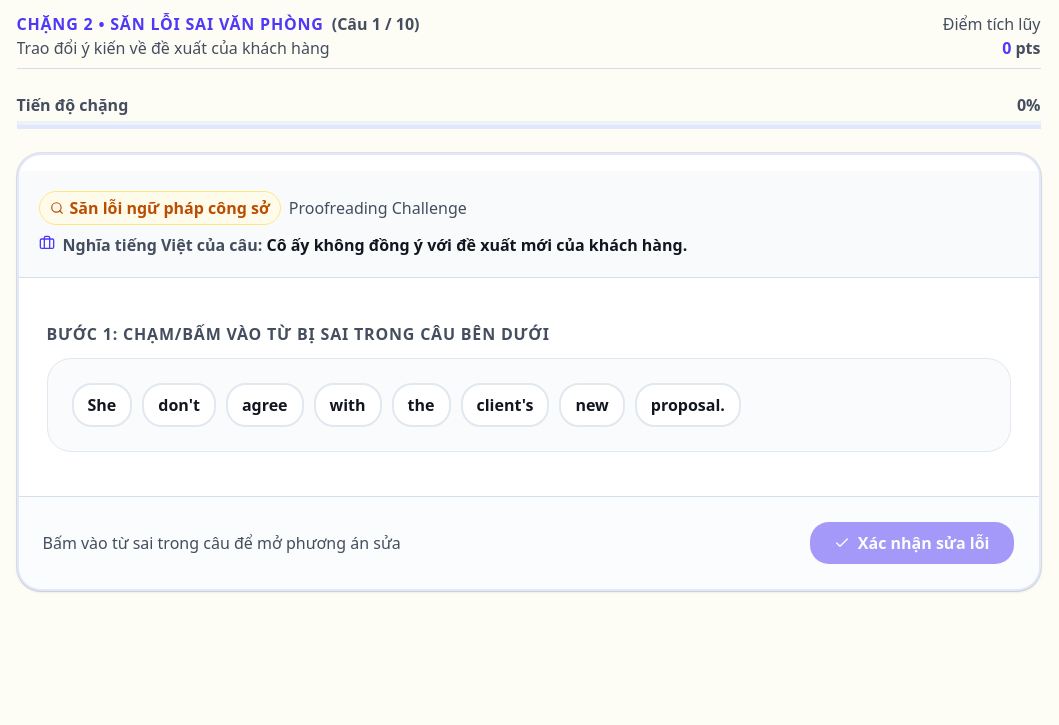
Test case: ErrorHunterStage (Stage 2) › opens correction options when clicking the error token
The image size is (1059, 725).
// Click "don't" (index 1 - error token)
Click the button "don't" at (179, 405), box x1=142 y1=383 x2=216 y2=427
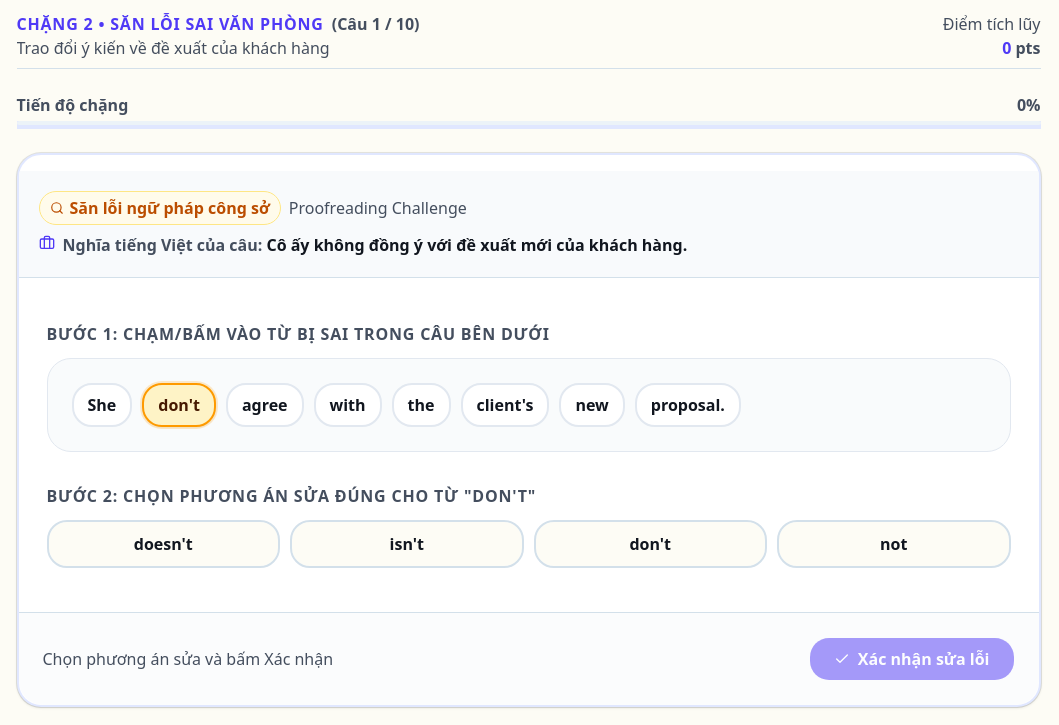
Expected: the text "Bước 2: Chọn phương án sửa đúng cho từ \"don't\"" is shown, x1=46 y1=485 x2=536 y2=507
Expected: the button "doesn't" is shown, x1=46 y1=520 x2=280 y2=568
Expected: the button "isn't" is shown, x1=290 y1=520 x2=524 y2=568
